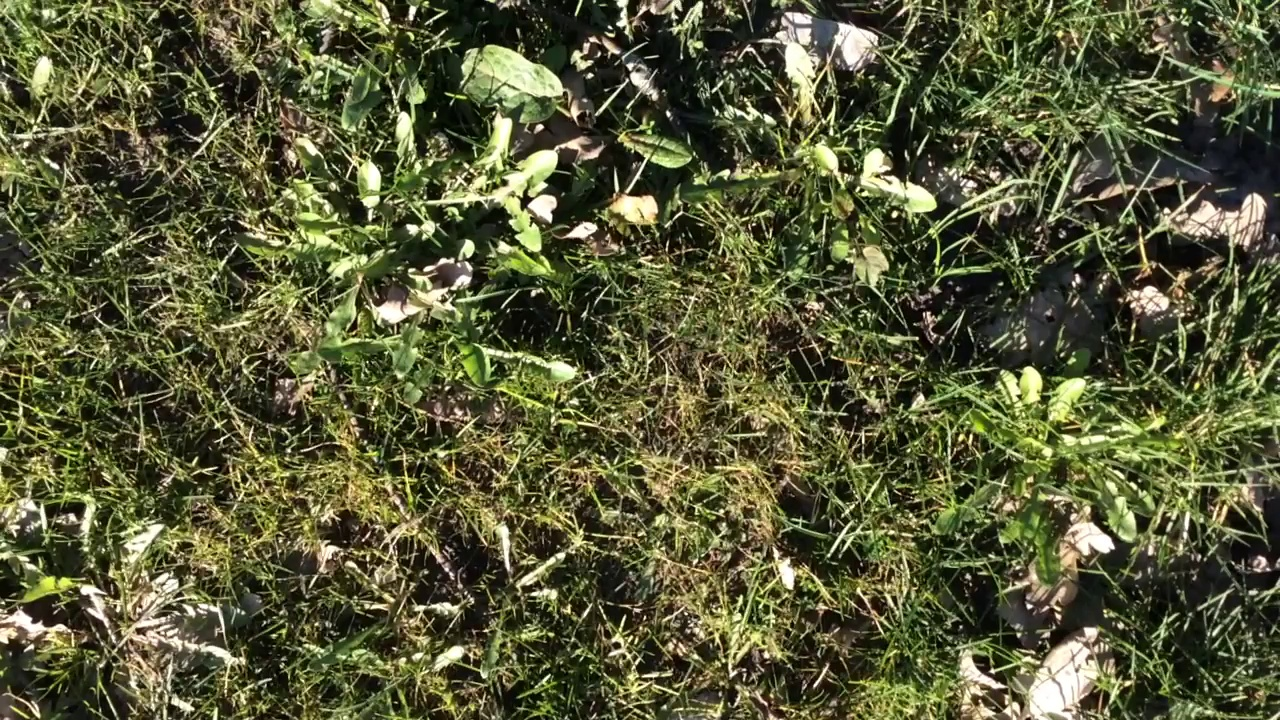rumex: (447, 43, 561, 123), (622, 132, 694, 170)
